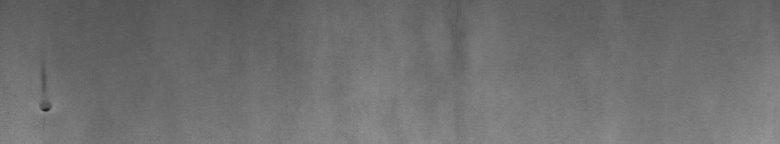fi: (35, 64, 57, 120)
